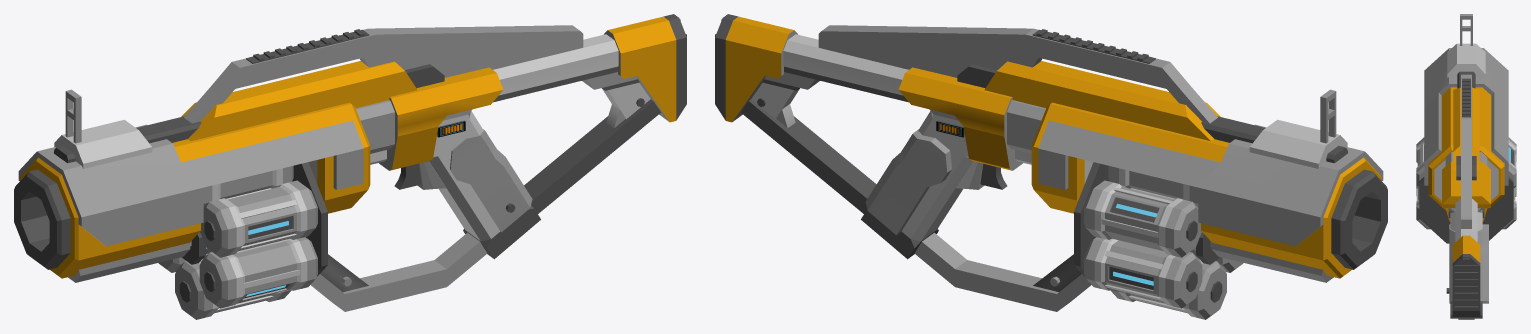
File: SM_GLA01.fbx
3 renders of one model, left to right at view 1: azimuth 30°, elevation 25°; view 2: azimuth 150°, elevation 25°; view 3: azimuth 270°, elevation 25°, orthographic. The views are drawn at different scales.
Visible parts, largest first — view 1: SM_GLA01, SM_Grenade6, SM_Grenade5, SM_Grenade4, SM_GLA01_Drum, SM_Grenade1, SM_GLA01_Trigger; view 2: SM_GLA01, SM_Grenade2, SM_Grenade3, SM_Grenade4, SM_GLA01_Drum, SM_Grenade1, SM_GLA01_Trigger; view 3: SM_GLA01, SM_GLA01_Drum, SM_Grenade2, SM_Grenade6, SM_Grenade5, SM_Grenade3.
Part boxes in pixels (left/top/right/bottom): SM_GLA01: left=14, top=14, right=686, bottom=311; SM_Grenade6: left=200, top=180, right=317, bottom=257; SM_Grenade5: left=199, top=237, right=317, bottom=308; SM_Grenade4: left=175, top=259, right=291, bottom=319; SM_GLA01_Drum: left=181, top=162, right=327, bottom=276; SM_Grenade1: left=203, top=165, right=293, bottom=207; SM_GLA01_Trigger: left=394, top=163, right=421, bottom=189; SM_GLA01: left=715, top=14, right=1387, bottom=311; SM_Grenade2: left=1084, top=180, right=1201, bottom=257; SM_Grenade3: left=1084, top=237, right=1202, bottom=308; SM_Grenade4: left=1110, top=259, right=1226, bottom=319; SM_GLA01_Drum: left=1074, top=162, right=1219, bottom=276; SM_Grenade1: left=1108, top=165, right=1198, bottom=207; SM_GLA01_Trigger: left=980, top=163, right=1007, bottom=189; SM_GLA01: left=1424, top=14, right=1508, bottom=319; SM_GLA01_Drum: left=1419, top=177, right=1513, bottom=243; SM_Grenade2: left=1508, top=137, right=1516, bottom=187; SM_Grenade6: left=1416, top=137, right=1424, bottom=187; SM_Grenade5: left=1416, top=186, right=1430, bottom=229; SM_Grenade3: left=1502, top=186, right=1516, bottom=229.
Size of the model in its own units: 68.81 by 28.48 by 13.91.
Materials: 6 (1 with a texture image).
